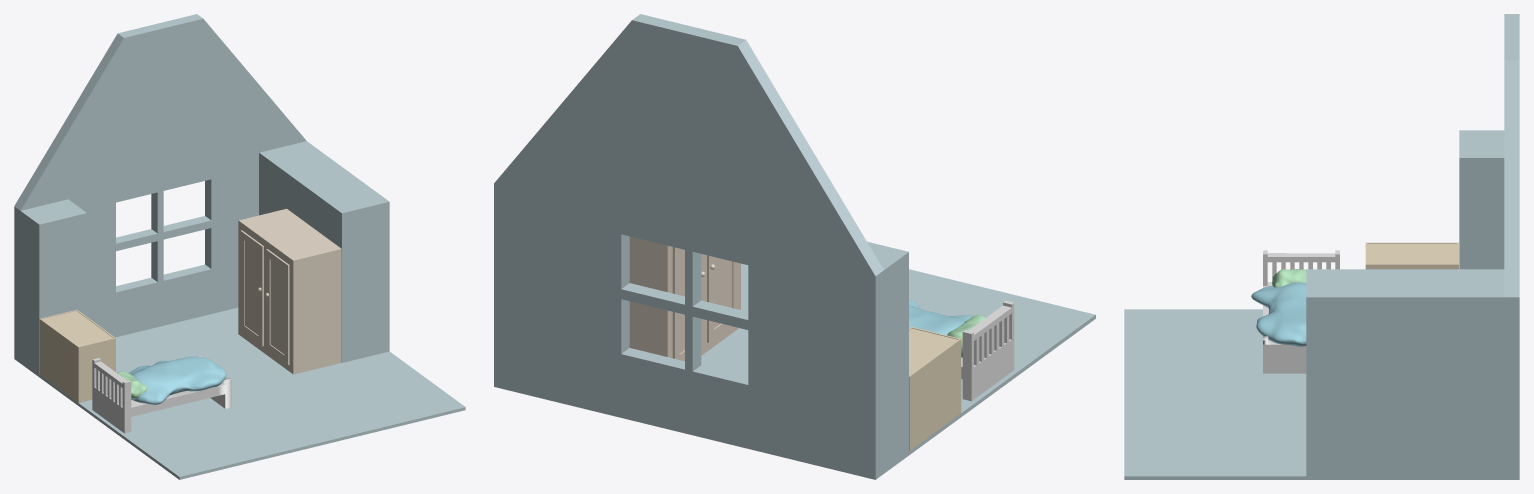
The model's file is ha_stage.gltf.
3 renders of one model, left to right at view 1: azimuth 30°, elevation 25°; view 2: azimuth 150°, elevation 25°; view 3: azimuth 270°, elevation 25°, orthographic. The views are drawn at different scales.
Parts seen in each view (by area): view 1: Cube, Sphere, Cube.001, Cube.002, Layer_1; view 2: Cube, Sphere, Cube.001, Cube.002, Layer_1; view 3: Cube, Layer_1, Cube.002, Cube.001, Layer_1.001.
Boxes of the visible parts, x1,y1,x2,y2 form: Cube: (14, 14, 465, 479); Sphere: (238, 208, 341, 374); Cube.001: (39, 310, 115, 402); Cube.002: (92, 356, 231, 433); Layer_1: (129, 356, 226, 404); Cube: (494, 14, 1095, 479); Sphere: (629, 236, 740, 361); Cube.001: (909, 326, 961, 450); Cube.002: (961, 300, 1014, 401); Layer_1: (909, 299, 974, 335); Cube: (1124, 14, 1519, 479); Layer_1: (1251, 282, 1306, 346); Cube.002: (1263, 250, 1339, 373); Cube.001: (1365, 242, 1458, 269); Layer_1.001: (1272, 269, 1306, 287).
Bounding box in the file's own units: 5.26 × 5.28 × 5.26.
